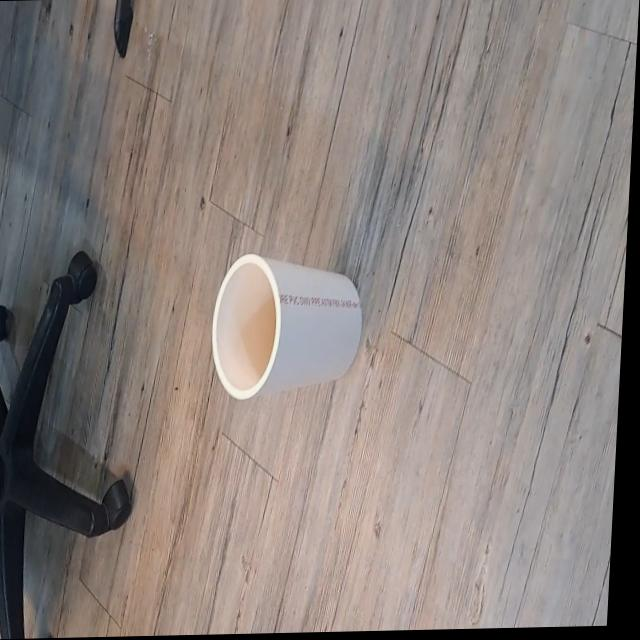CORAL: (201, 227, 373, 421)
